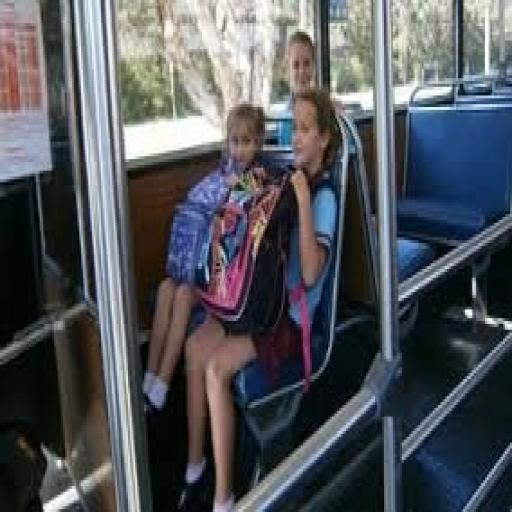sitting: (139, 26, 348, 506)
